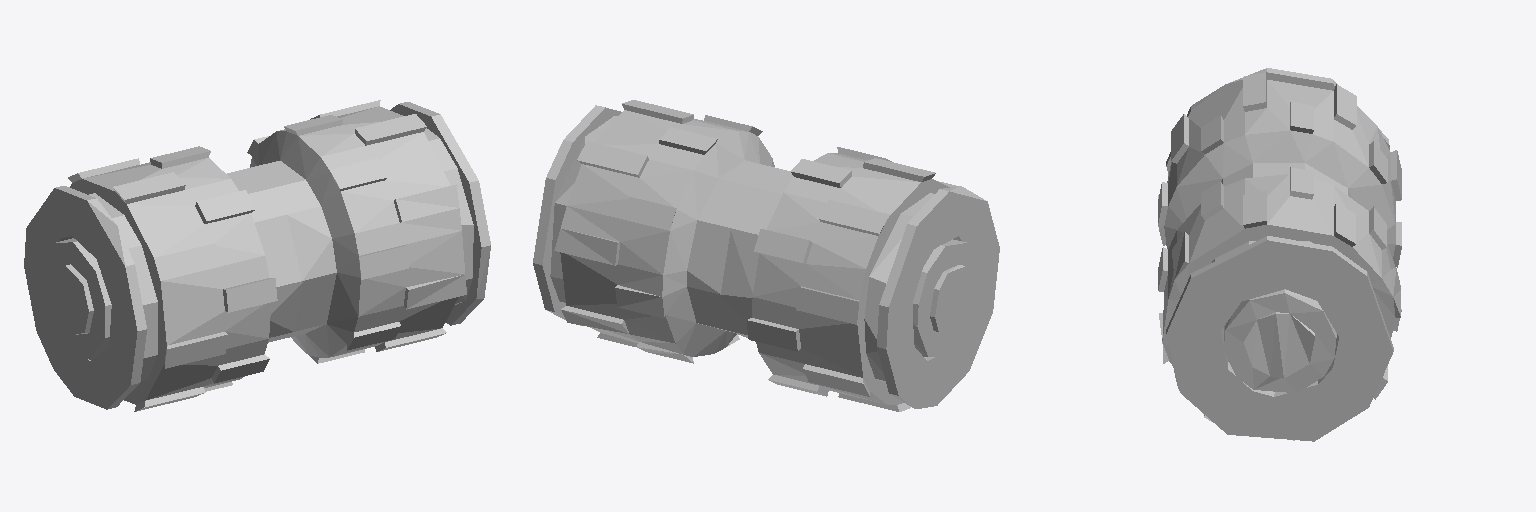
File: Kola_000008.obj
3 renders of one model, left to right at view 1: azimuth 30°, elevation 25°; view 2: azimuth 150°, elevation 25°; view 3: azimuth 270°, elevation 25°, orthographic.
Visible parts, largest first — view 1: Cylinder.004; view 2: Cylinder.004; view 3: Cylinder.004.
Part boxes in pixels (x1,y1,x2,y2): Cylinder.004: (24, 100, 490, 411); Cylinder.004: (533, 100, 999, 411); Cylinder.004: (1158, 68, 1401, 441).
Size of the model in its own units: 2.17 by 1.24 by 1.24.